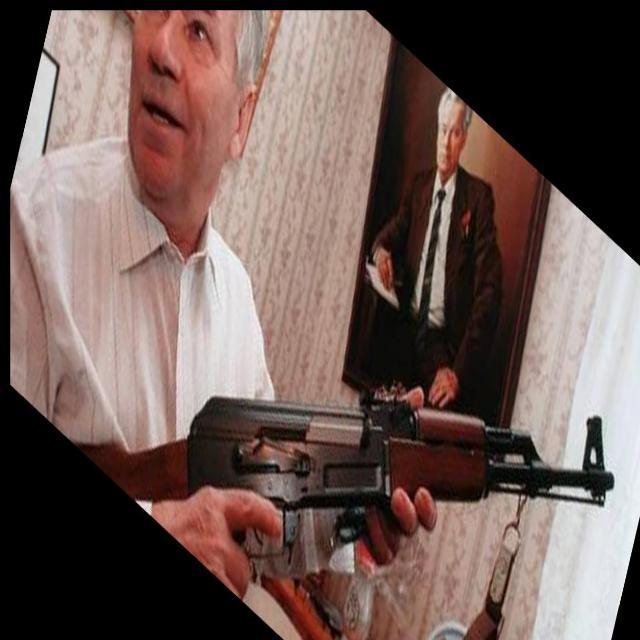weapon: (73, 396, 615, 567)
